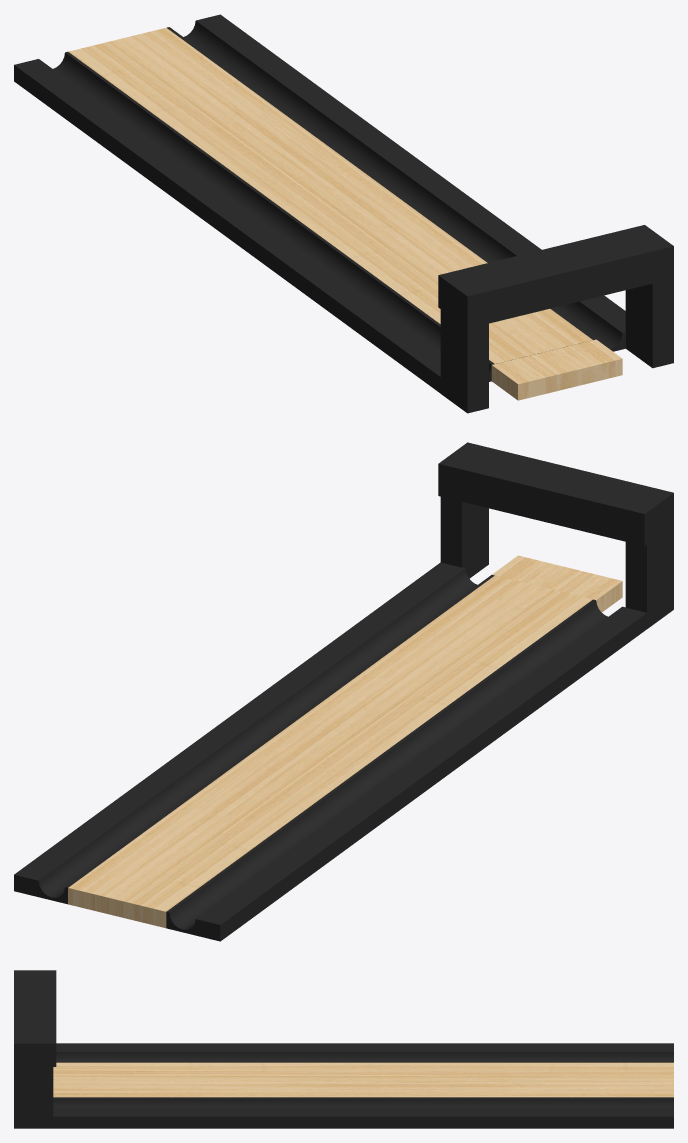
File: bowling_track.fbx
The picture shows the model from 3 angles, top to bottom: view 1: azimuth 30°, elevation 25°; view 2: azimuth 150°, elevation 25°; view 3: azimuth 270°, elevation 25°; orthographic projection. The views are drawn at different scales.
Visible parts, largest first — view 1: polySurface3; view 2: polySurface3; view 3: polySurface3.
Part boxes in pixels (x1,y1,x2,y2): polySurface3: (14,14,673,413); polySurface3: (14,442,673,941); polySurface3: (14,970,673,1128).
Bounding box in the file's own units: 15.81 × 8.55 × 60.13.
3 materials, 3 textured.
